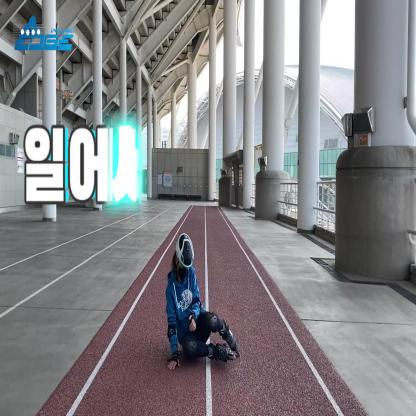Fall_Down: (166, 235, 236, 373)
